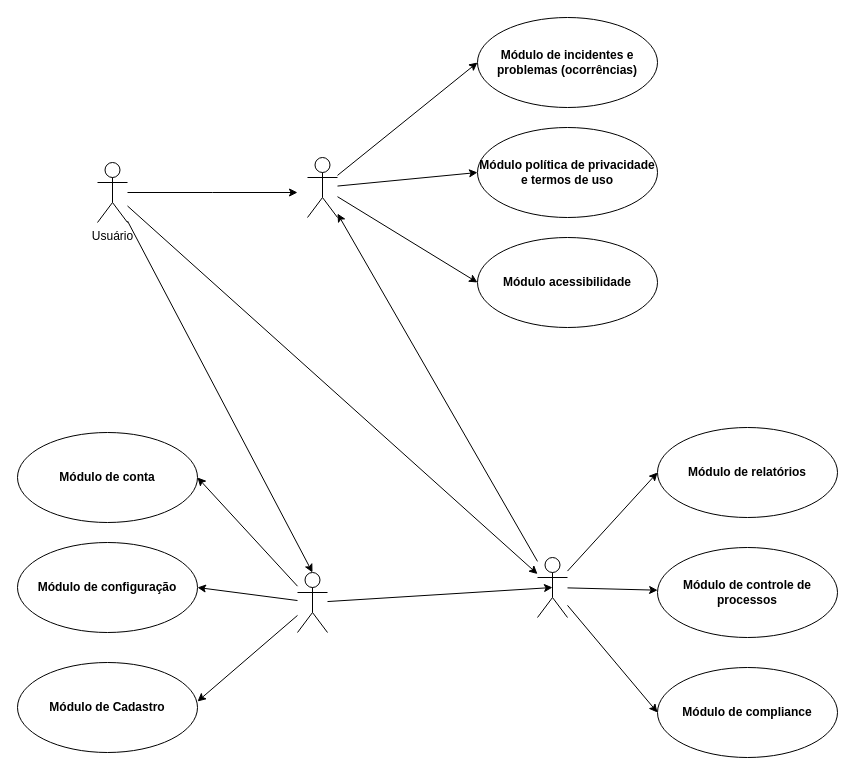
Some shapes in this 855 by 775 pixel diagram are drawn without their labels. Each missing label, with the centre of its shape:
Perfil Admin: (312,602)
Perfil Colaborador: (322,187)
Perfil Supervisor: (552,587)
